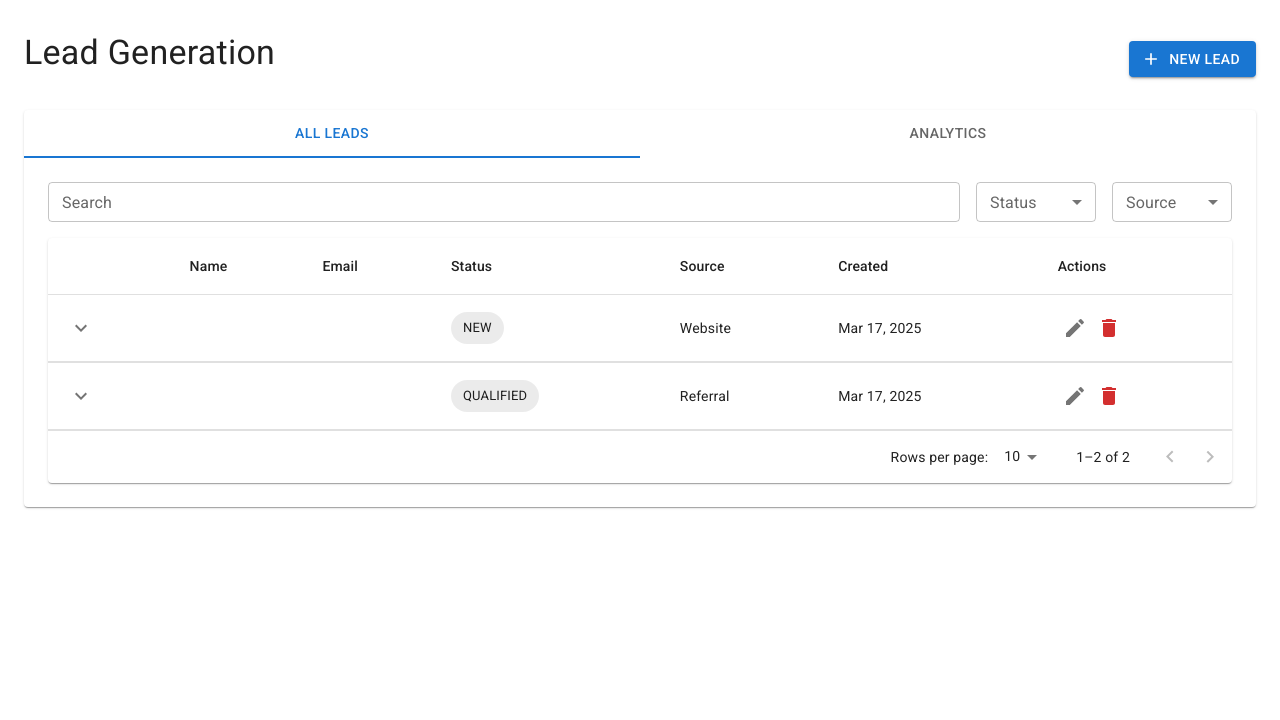
Test case: LeadGenerationPage › opens create lead form
Click the button "New Lead" at (1193, 59), box [1129,41,1256,77]
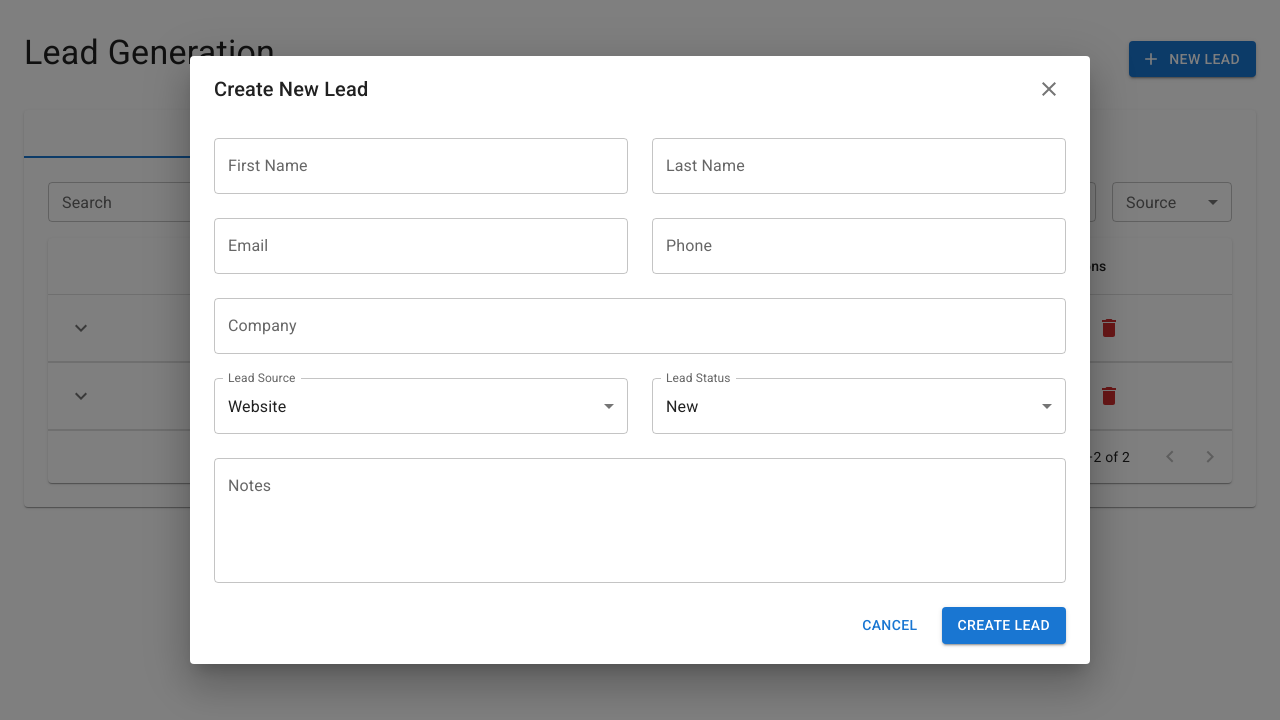
Expected: the text "Create New Lead" is shown, [214,72,1066,106]
